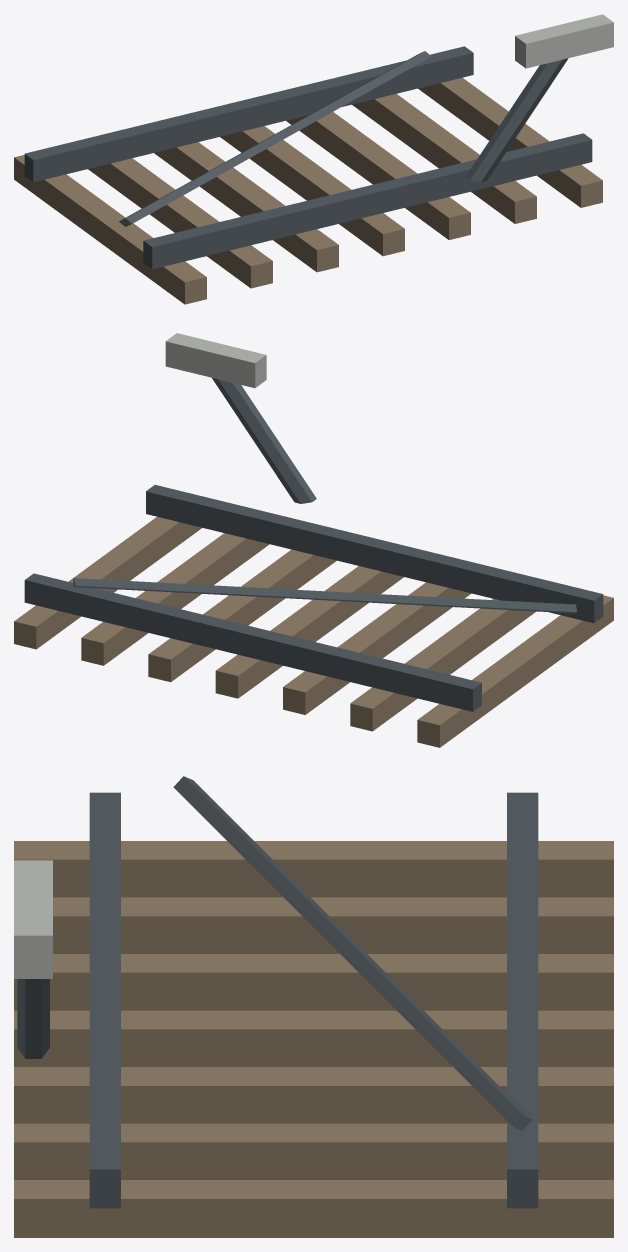
Rendered from switch_cluster.glb.
3 renders of one model, top to bottom at view 1: azimuth 30°, elevation 25°; view 2: azimuth 150°, elevation 25°; view 3: azimuth 270°, elevation 25°, orthographic. The views are drawn at different scales.
Visible parts, largest first — view 1: switch_cluster; view 2: switch_cluster; view 3: switch_cluster.
Part boxes in pixels (bbox=[...]): switch_cluster: bbox=[14, 14, 613, 304]; switch_cluster: bbox=[14, 333, 613, 747]; switch_cluster: bbox=[14, 776, 613, 1237].
Size of the model in its own units: 2.88 by 1.1 by 1.92.
